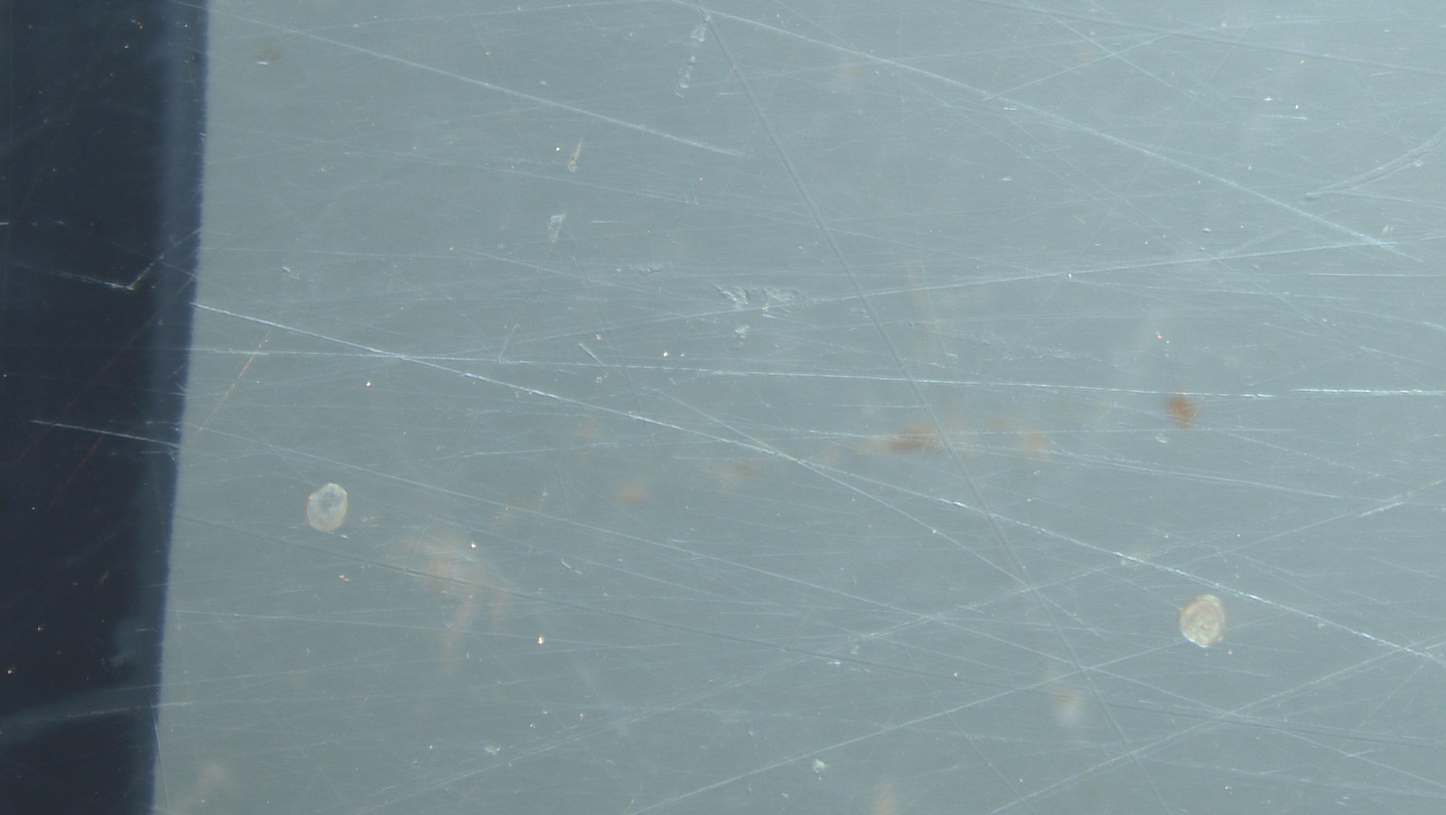dead: (306, 483, 349, 533)
live: (1178, 595, 1226, 648)
